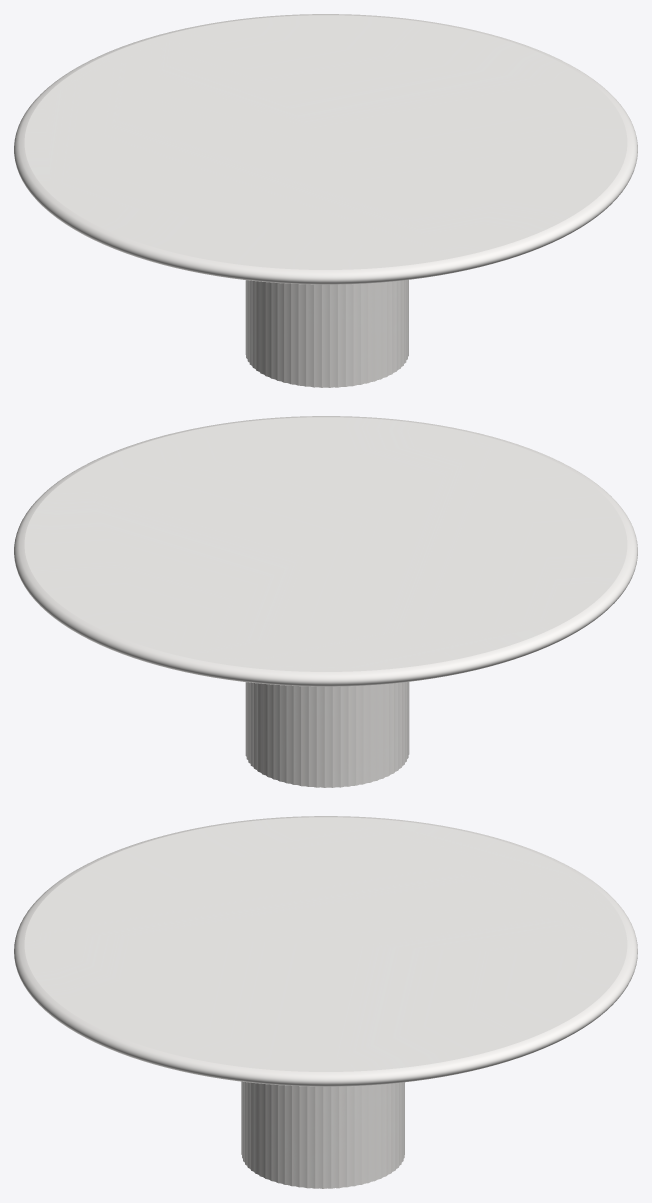
Rendered from purewhite_round_round_ripple.glb.
3 views of the same model, one above another, from view 1: azimuth 30°, elevation 25°; view 2: azimuth 150°, elevation 25°; view 3: azimuth 270°, elevation 25° (orthographic).
Parts seen in each view (by area): view 1: round_round, ripple; view 2: round_round, ripple; view 3: round_round, ripple.
Boxes of the visible parts, x1,y1,x2,y2 form: round_round: (14,14,637,284); ripple: (245,280,408,387); round_round: (14,416,637,686); ripple: (245,682,409,787); round_round: (14,816,637,1086); ripple: (241,1081,404,1188).
Size of the model in its own units: 6.75 by 2.5 by 6.75.
Materials: 1 (1 with a texture image).
